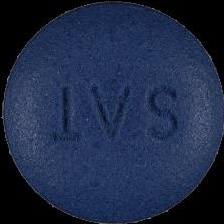0076-0901: (0, 0, 224, 224)
